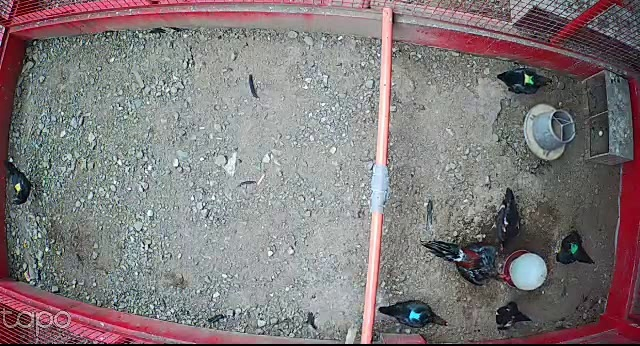Chicken: (496, 64, 557, 100), (491, 188, 524, 253), (380, 300, 449, 328), (548, 228, 597, 265), (3, 158, 38, 206), (494, 299, 533, 333)
Feeder: (525, 104, 577, 162)
Rooster: (419, 230, 514, 292)
Saddle_Color_Blue: (409, 308, 422, 321)
Saddle_Color_Yellow: (15, 182, 23, 194)
Saddle_Color_YellowGreen: (522, 73, 535, 87)
